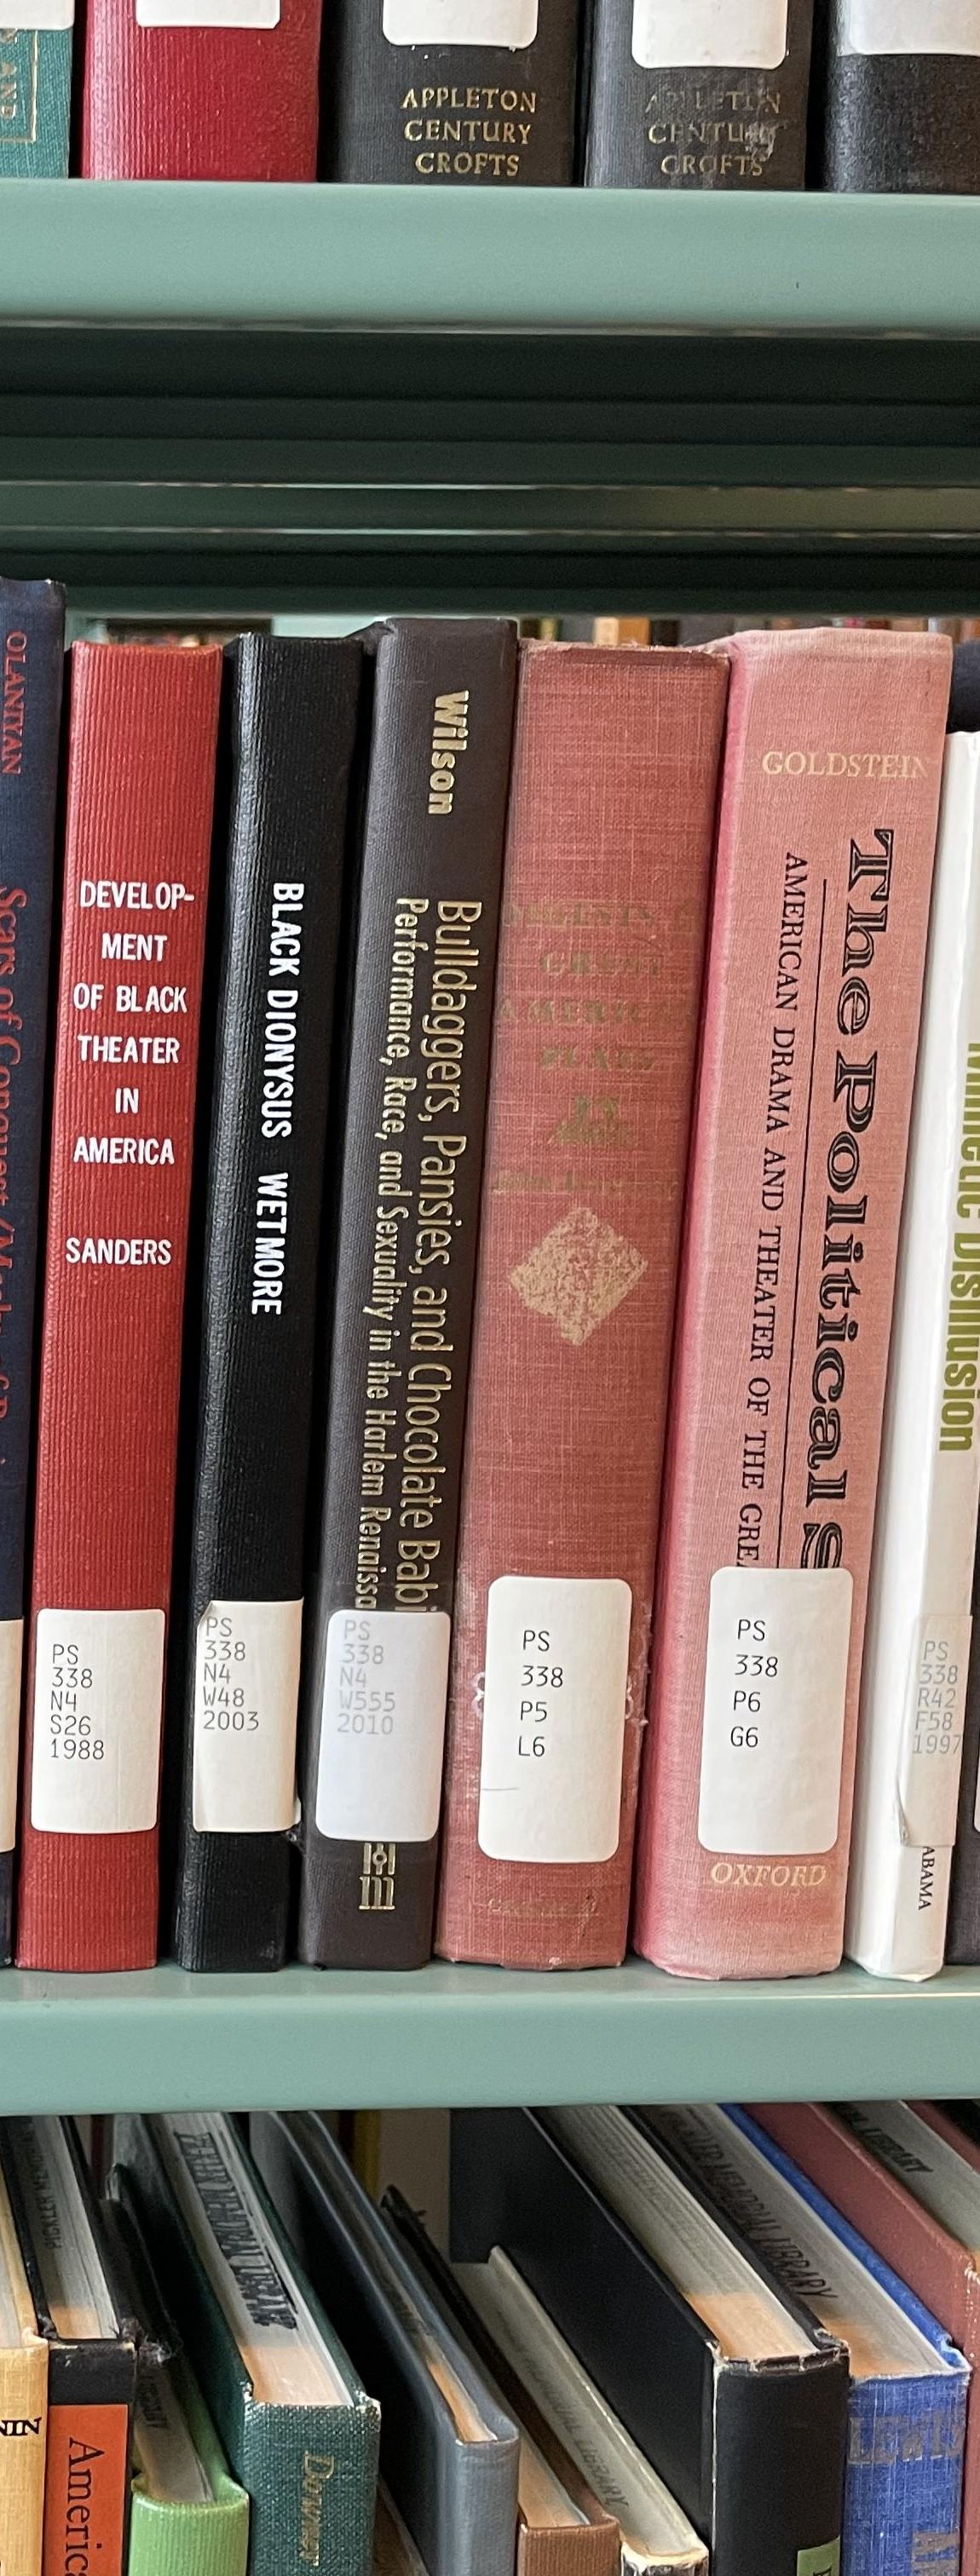call_number: (705, 1566, 834, 1853), (485, 1582, 618, 1858), (28, 1612, 163, 1843), (331, 1610, 436, 1835), (194, 1597, 294, 1830), (904, 1617, 965, 1842)
